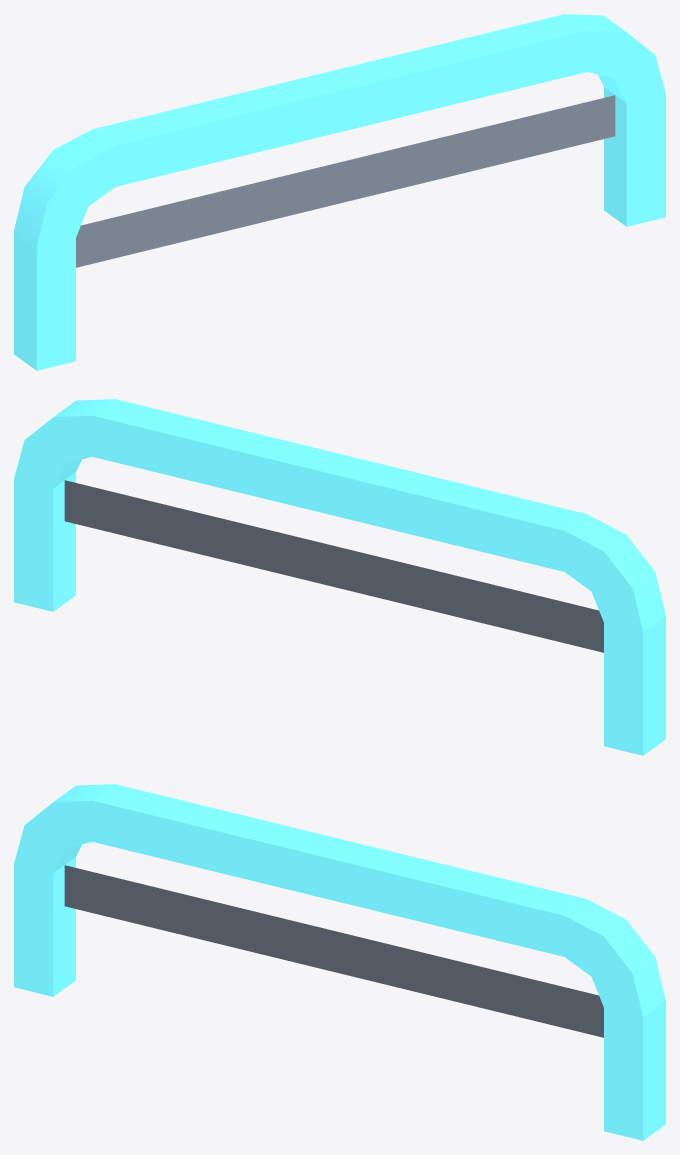
Rendered from rail.glb.
3 views of the same model, one above another, from view 1: azimuth 30°, elevation 25°; view 2: azimuth 150°, elevation 25°; view 3: azimuth 330°, elevation 25° (orthographic).
Parts seen in each view (by area): view 1: rail; view 2: rail; view 3: rail.
Boxes of the visible parts, bbox=[...] form: rail: bbox=[14, 14, 665, 370]; rail: bbox=[14, 399, 665, 755]; rail: bbox=[14, 784, 665, 1140].
Bounding box in the file's own units: 0.8 × 0.25 × 0.05.
